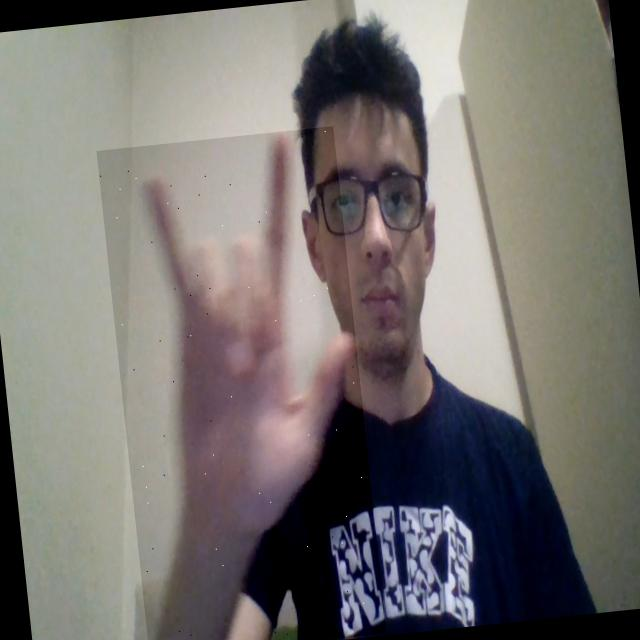iloveyou: (96, 125, 386, 640)
